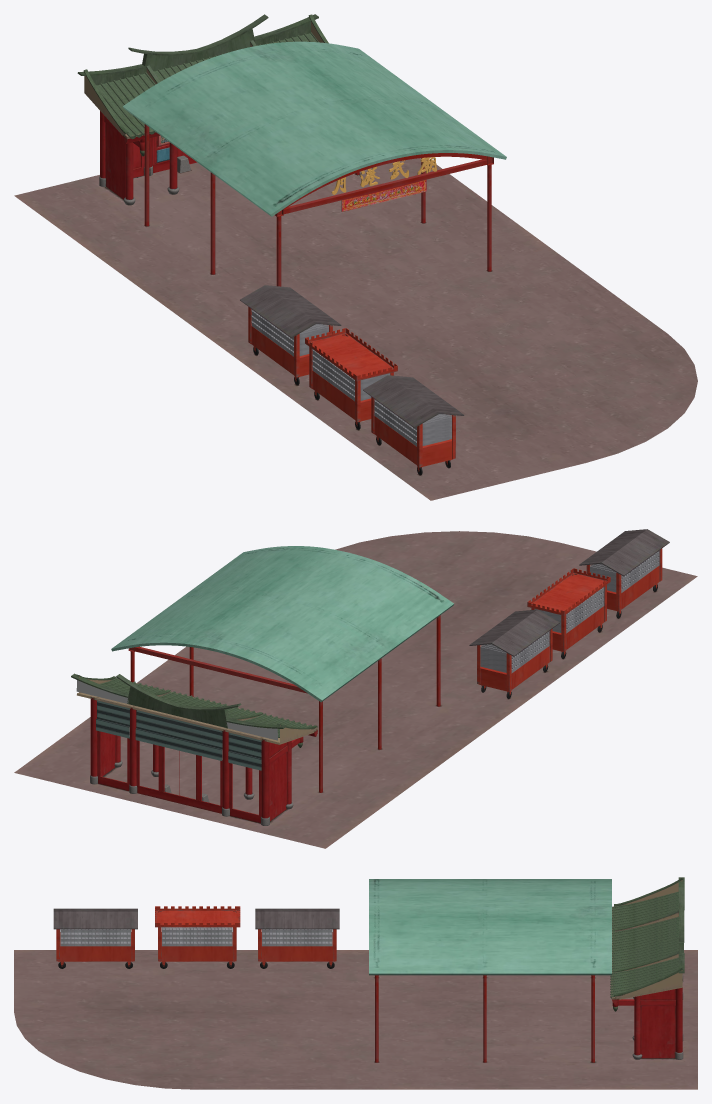
File: qiaonan-beehive-fireworks.glb
3 views of the same model, one above another, from view 1: azimuth 30°, elevation 25°; view 2: azimuth 150°, elevation 25°; view 3: azimuth 270°, elevation 25° (orthographic). The views are drawn at different scales.
Visible parts, largest first — view 1: Wu Temple; view 2: Wu Temple; view 3: Wu Temple.
Part boxes in pixels (x1,y1,x2,y2): Wu Temple: [14, 14, 697, 500]; Wu Temple: [14, 529, 697, 848]; Wu Temple: [14, 877, 697, 1089].
Bounding box in the file's own units: 13.09 × 5.1 × 27.09.
Materials: 2 (2 with a texture image).
